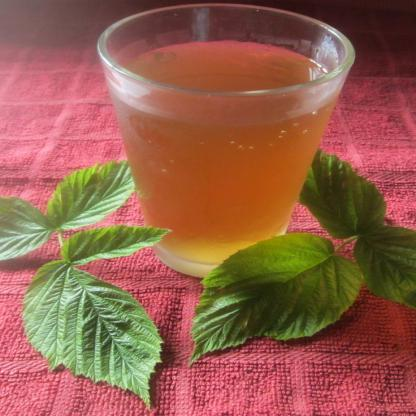raspberry leaf: (179, 237, 367, 370), (21, 258, 167, 413), (284, 137, 394, 239), (47, 157, 144, 237), (59, 223, 179, 261), (1, 191, 55, 267)
